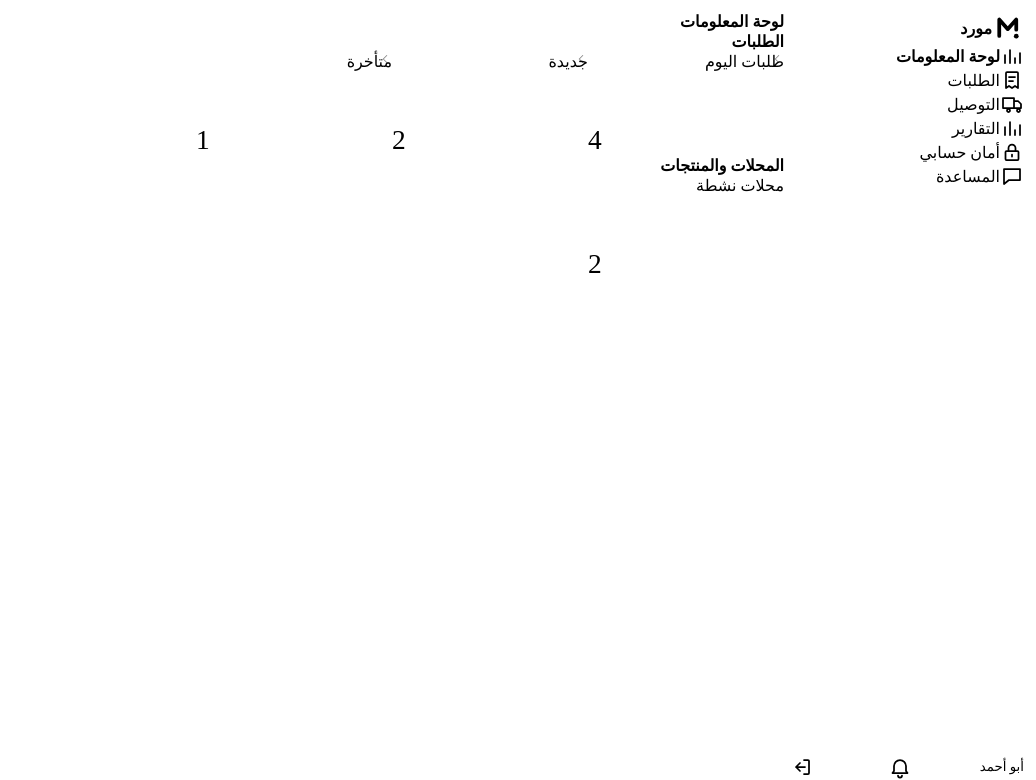
Test: الواجهة › كل بطاقة وسطر في اللوحة يفتح تفاصيله
Click the button with aria-label "متأخرة: 1" at (294, 104), box [196,52,392,156]
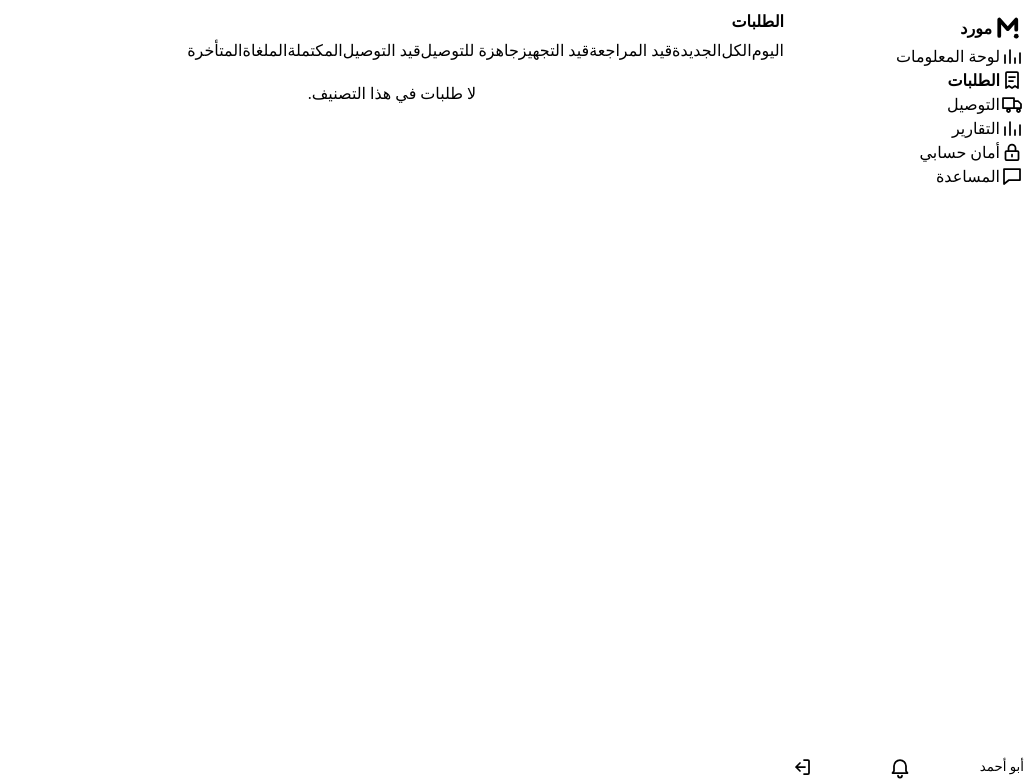
Note: اللوحة مربعات فقط: «جديدة» تفتح فلترها، والمنتجات خارج صلاحياته غير قابلة للنقر
Click the button "لوحة المعلومات" at (904, 56), box [784,44,1024,68]
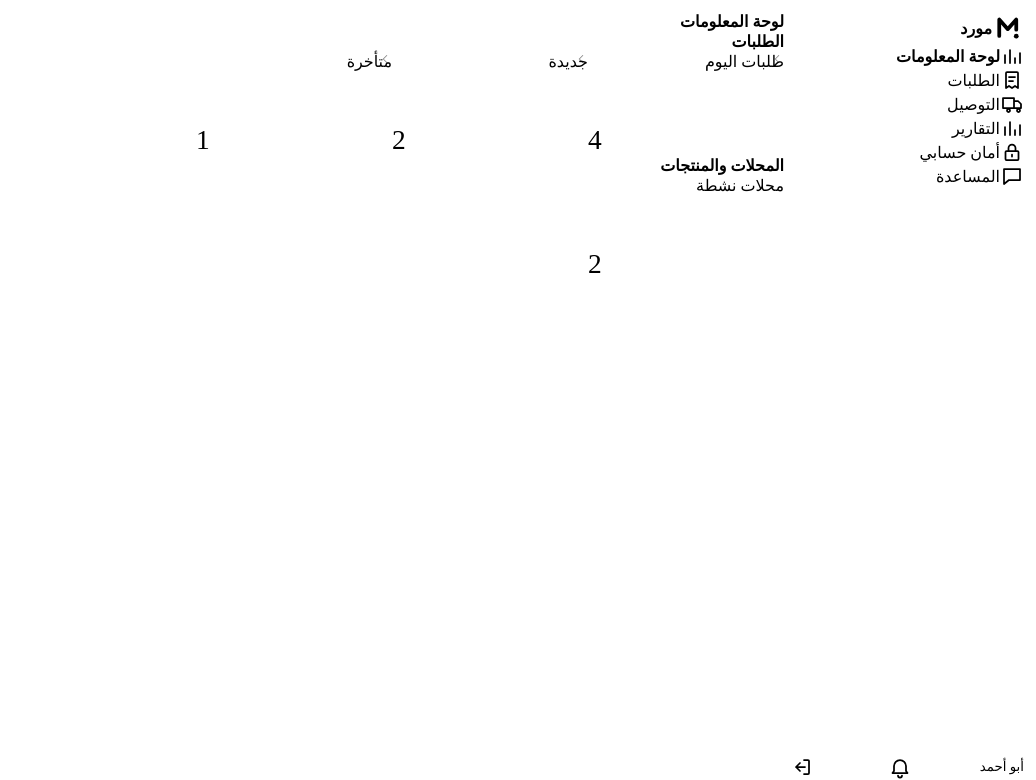
Click the button with aria-label "جديدة: 2" at (490, 104), box [392,52,588,156]
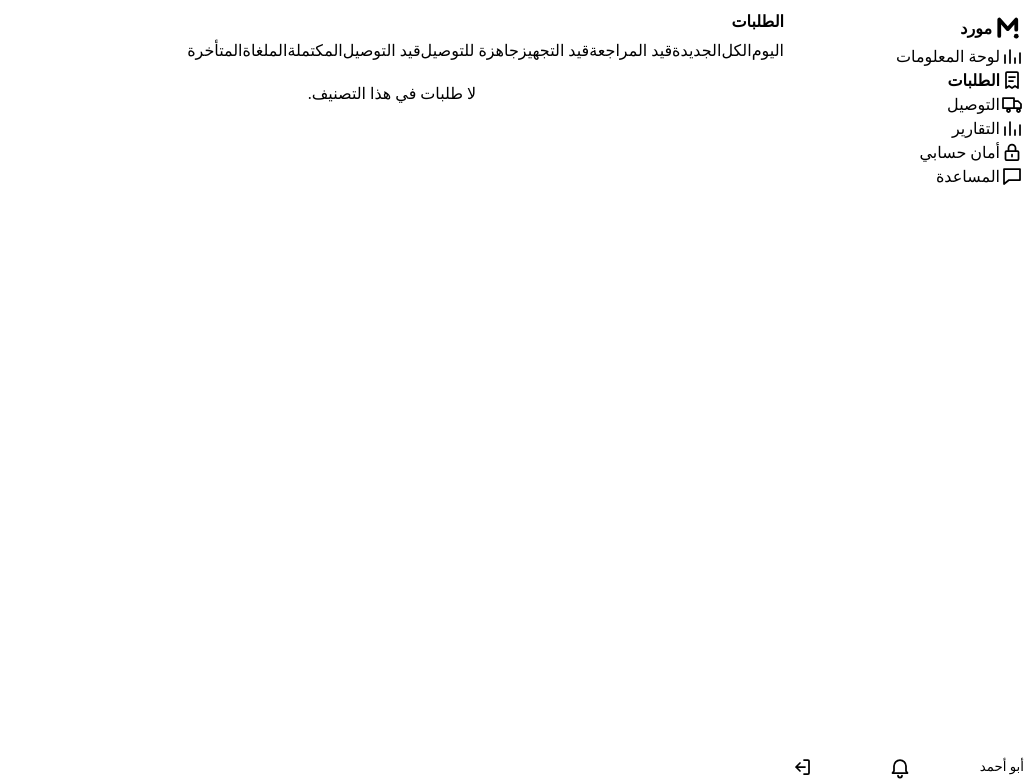
Click the button "لوحة المعلومات" at (904, 56), box [784,44,1024,68]
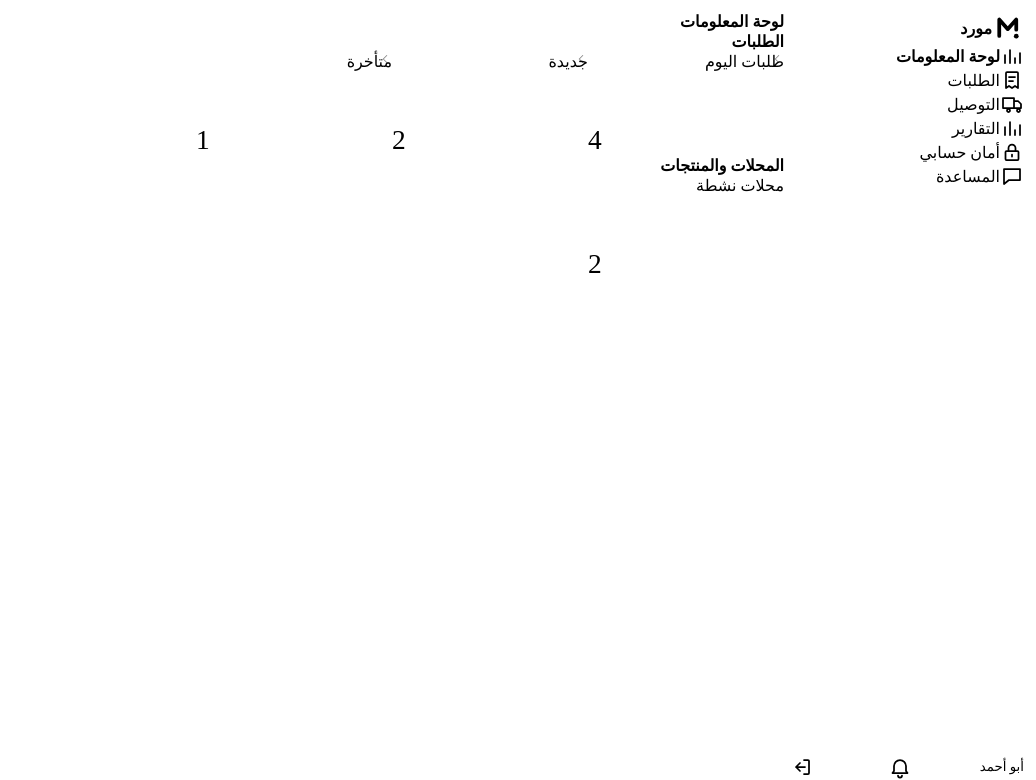
Check: the text "محلات نشطة" is shown, box [696,177,784,194]
